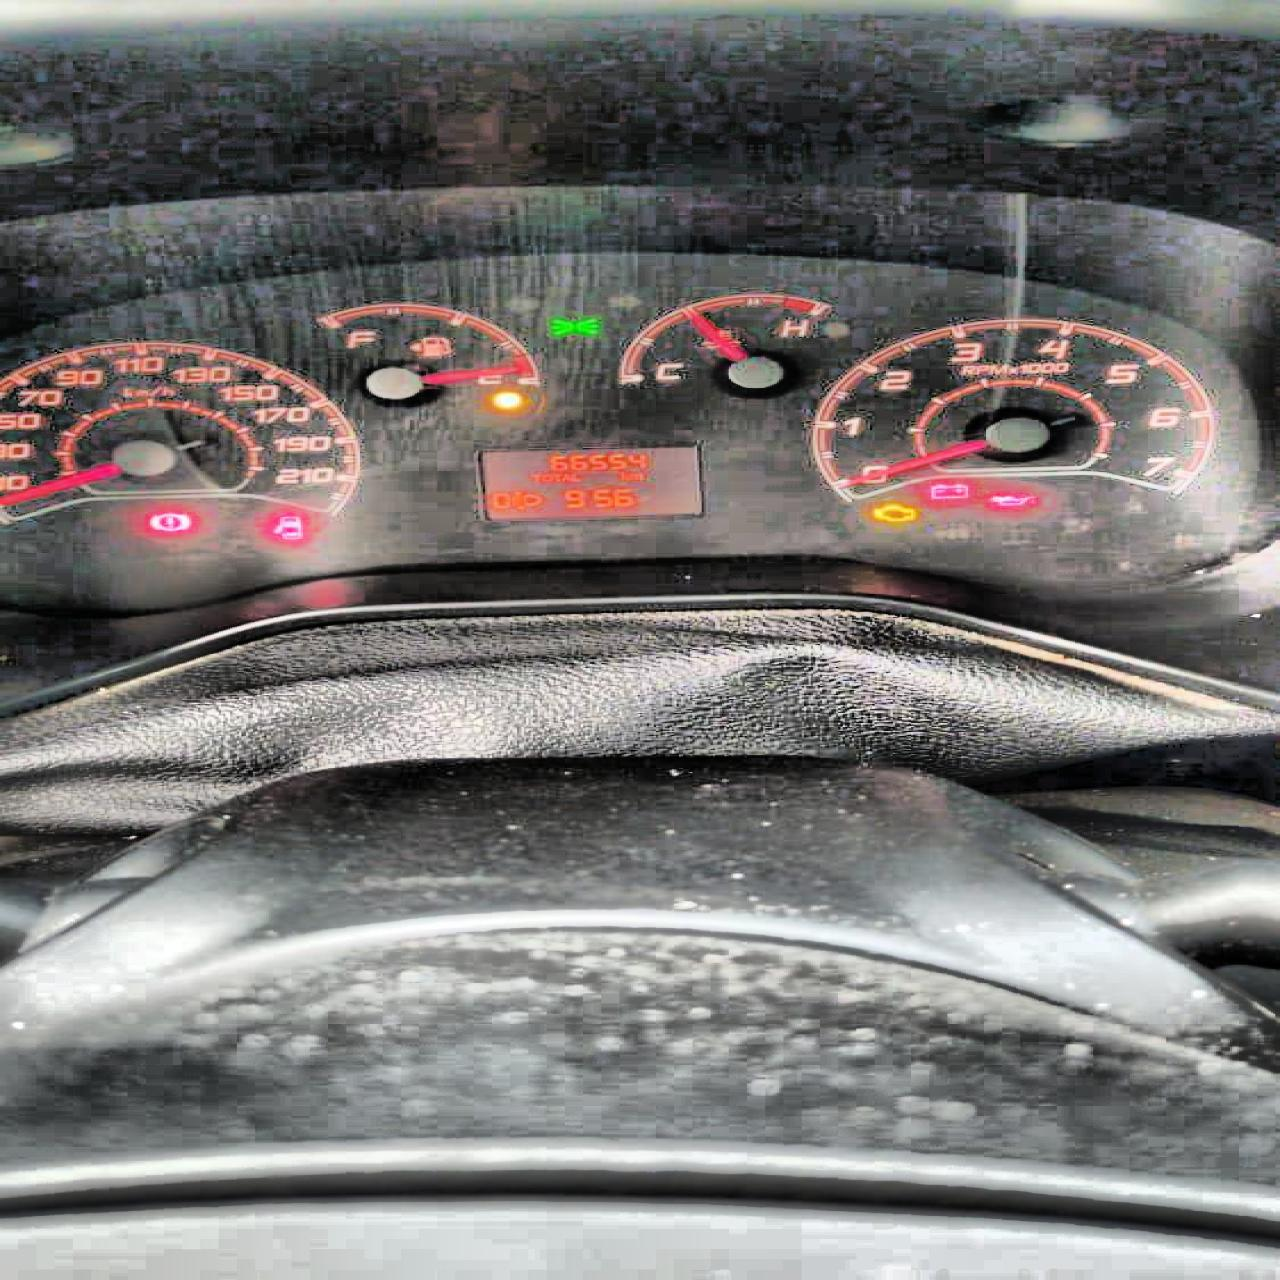0: (490, 492, 508, 509)
4: (626, 452, 645, 467)
5: (590, 488, 611, 508), (587, 454, 606, 470), (606, 454, 624, 469)
6: (611, 488, 633, 505), (546, 454, 567, 470), (567, 454, 585, 470)
9: (563, 489, 584, 508)
X: (529, 472, 539, 482), (570, 472, 580, 482), (628, 472, 642, 479), (551, 471, 560, 481), (560, 472, 570, 482), (539, 472, 551, 479), (620, 471, 628, 481)
odometer: (471, 443, 701, 520)
